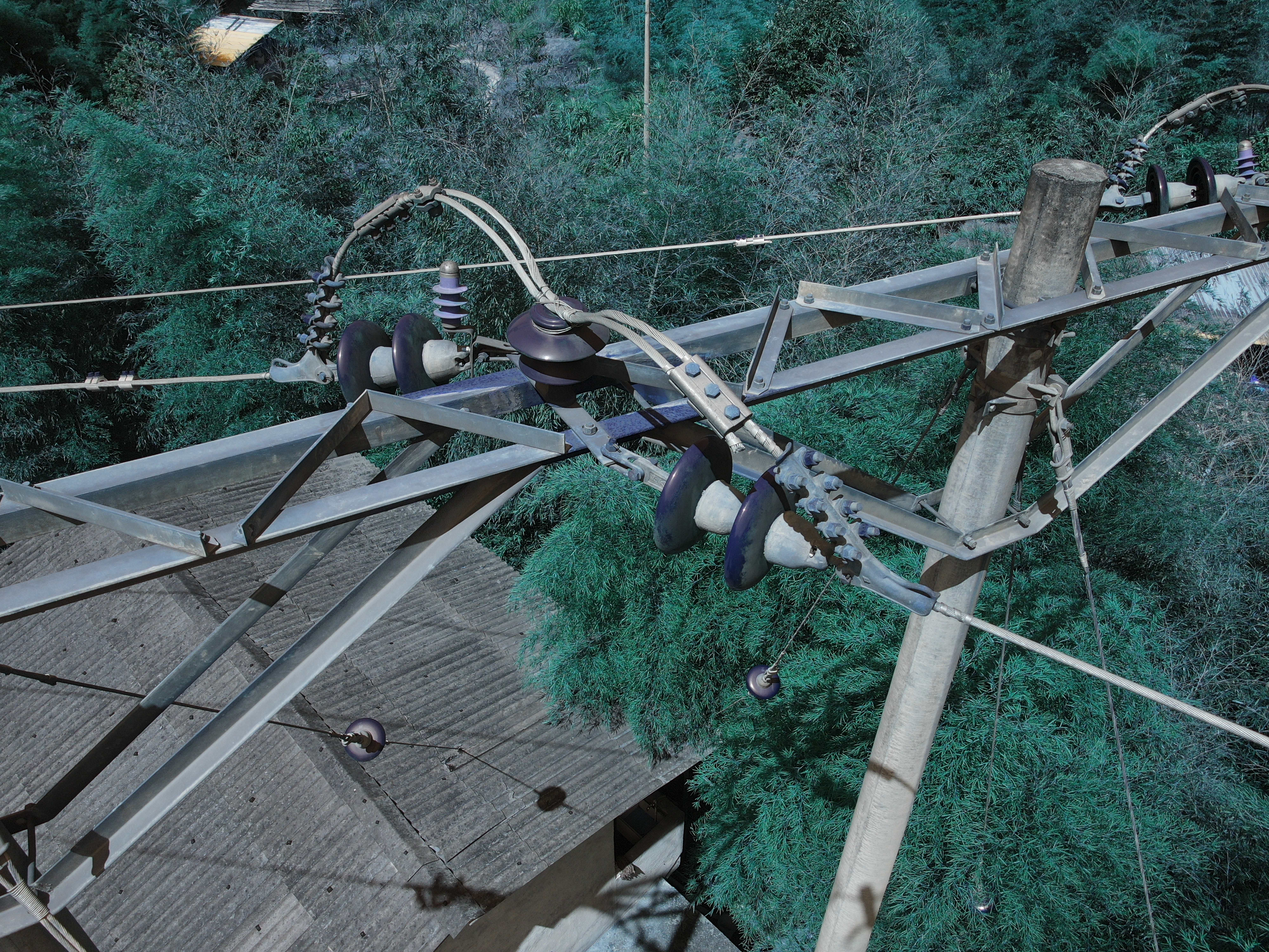severe_soiling_no_discharge_whole: (642, 435, 825, 591), (335, 311, 465, 388)
